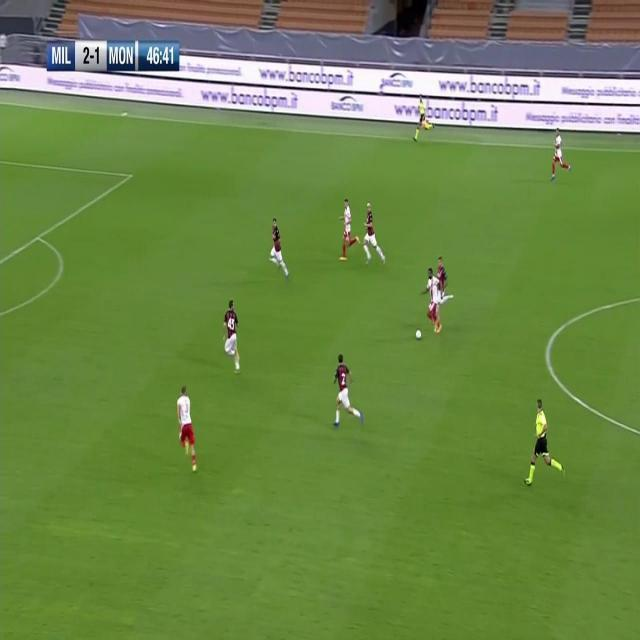ball: (415, 327, 423, 341)
player: (331, 352, 365, 430), (177, 385, 199, 475), (362, 201, 387, 268), (222, 298, 242, 373), (268, 216, 291, 278), (338, 197, 359, 263), (550, 127, 571, 182), (423, 269, 441, 332), (435, 257, 453, 315)
referee: (524, 398, 567, 486), (413, 93, 436, 143)
